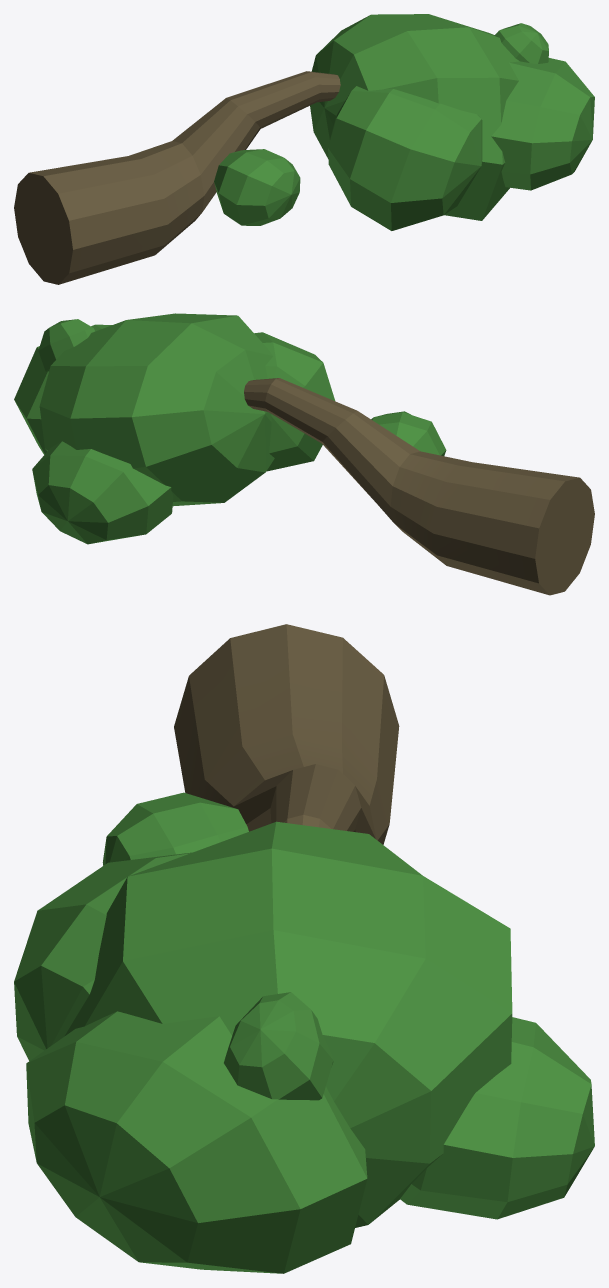
The model's file is SM_EdgeTree_01.fbx.
3 renders of one model, top to bottom at view 1: azimuth 30°, elevation 25°; view 2: azimuth 150°, elevation 25°; view 3: azimuth 270°, elevation 25°, orthographic. The views are drawn at different scales.
Parts seen in each view (by area): view 1: pSphere21; view 2: pSphere21; view 3: pSphere21.
Boxes of the visible parts, x1,y1,x2,y2 form: pSphere21: (14, 14, 594, 284); pSphere21: (14, 313, 594, 595); pSphere21: (14, 624, 594, 1273).
Bounding box in the file's own units: 460 × 227 × 157.
